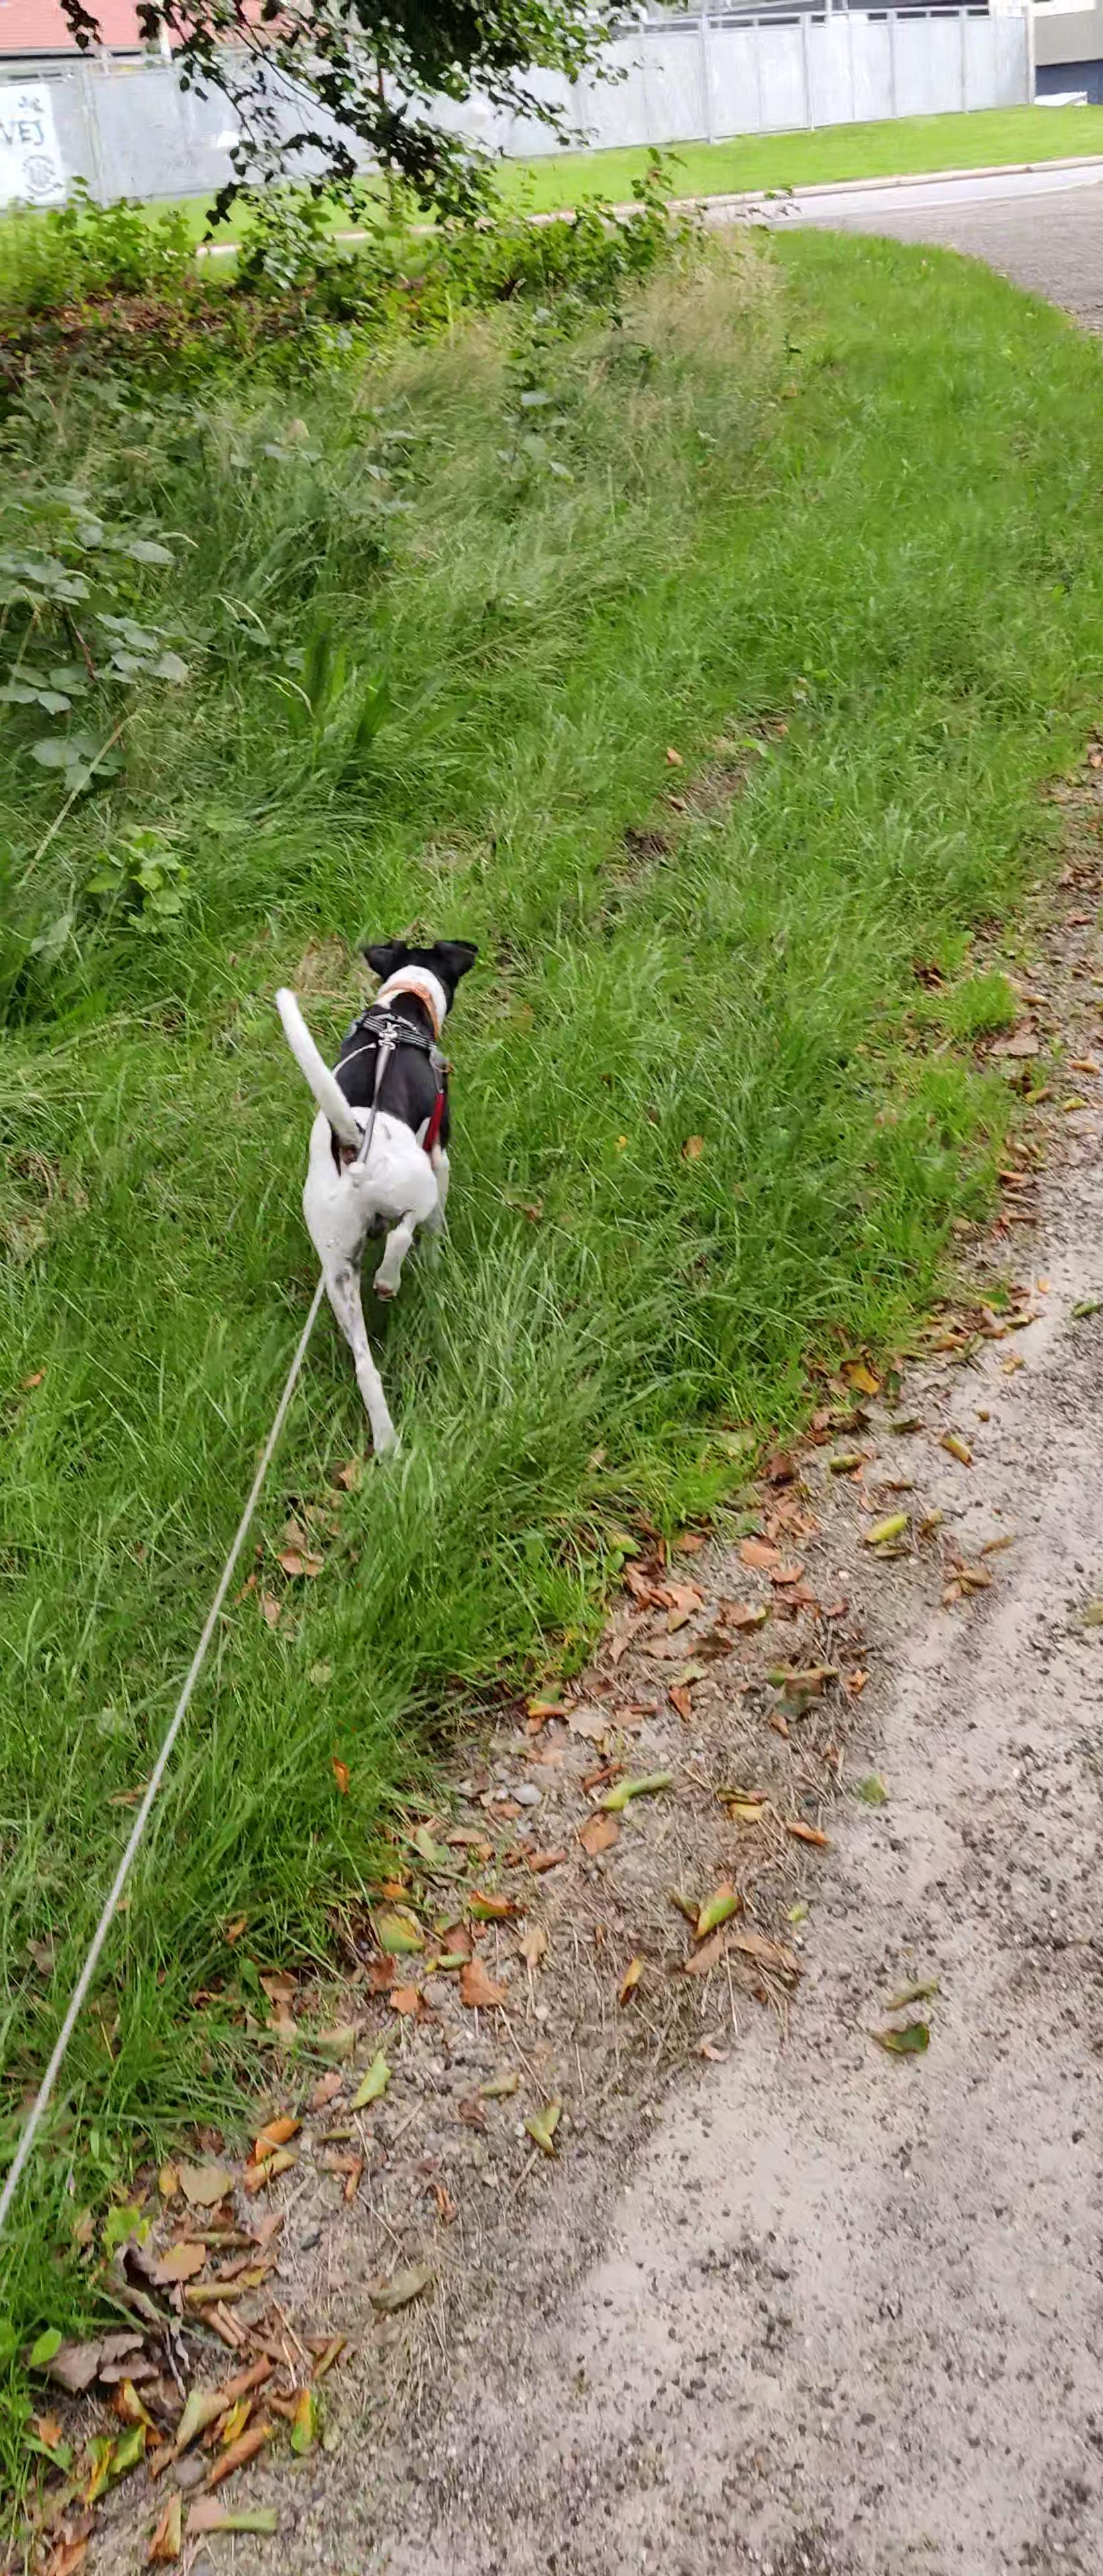Dog: (263, 930, 480, 1469)
